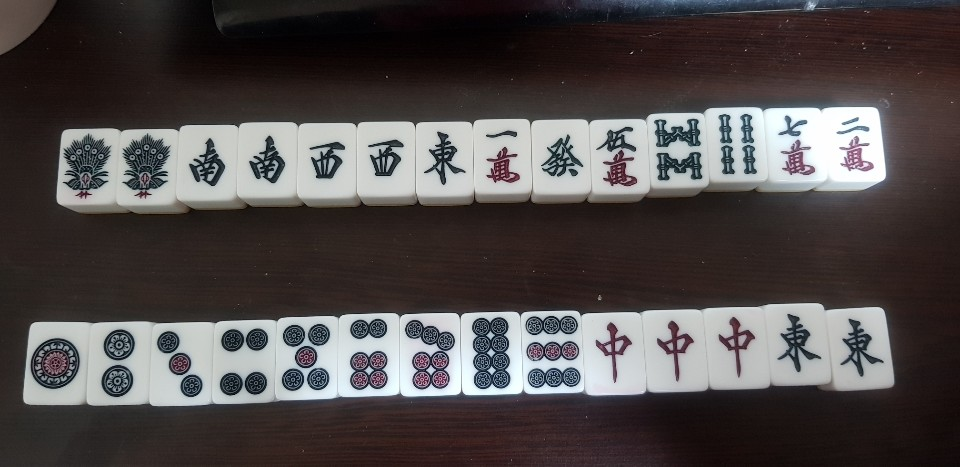honour_1: (825, 303, 893, 394), (759, 303, 827, 385), (415, 121, 472, 206)
honour_2: (174, 126, 241, 213), (236, 122, 299, 212)
honour_3: (291, 119, 357, 210), (354, 119, 416, 208)
honour_6: (529, 115, 593, 204)
honour_7: (584, 310, 643, 397), (647, 306, 702, 399), (707, 310, 763, 390)
man_1: (472, 117, 531, 206)
man_2: (831, 104, 884, 194)
man_5: (590, 119, 654, 208)
man_7: (768, 110, 834, 195)
pin_1: (25, 320, 90, 406)
pin_2: (88, 320, 150, 408)
pin_3: (143, 319, 220, 412)
pin_4: (216, 317, 281, 412)
pin_5: (272, 315, 332, 401)
pin_6: (336, 315, 397, 401)
pin_7: (390, 308, 465, 403)
pin_8: (461, 310, 522, 394)
pin_9: (516, 306, 590, 401)
sou_1: (109, 129, 179, 217), (56, 128, 120, 213)
sou_4: (706, 106, 770, 194)
sou_8: (647, 110, 706, 195)
